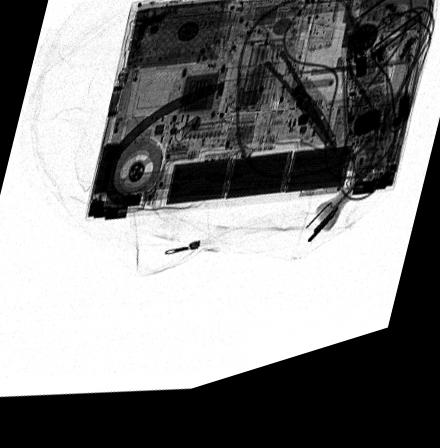Scissors: (226, 24, 338, 176)
